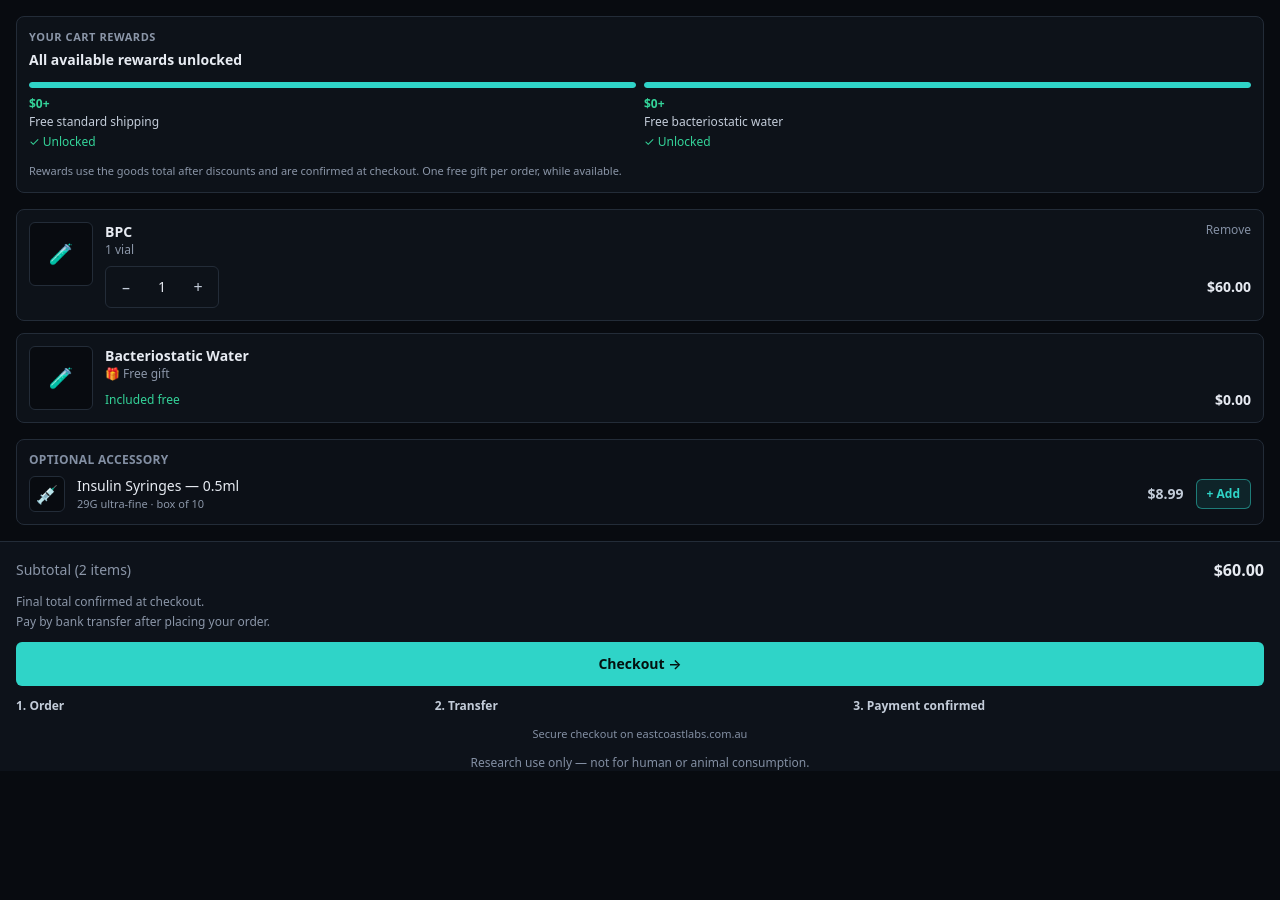
Test: removes the automatic gift when the last paid item is removed
The image size is (1280, 900).
Check: the text "Included free" is shown, box [105,392,180,408]
Click the button with aria-label "Remove BPC".
click(1228, 230)  # box [1198,214,1259,246]
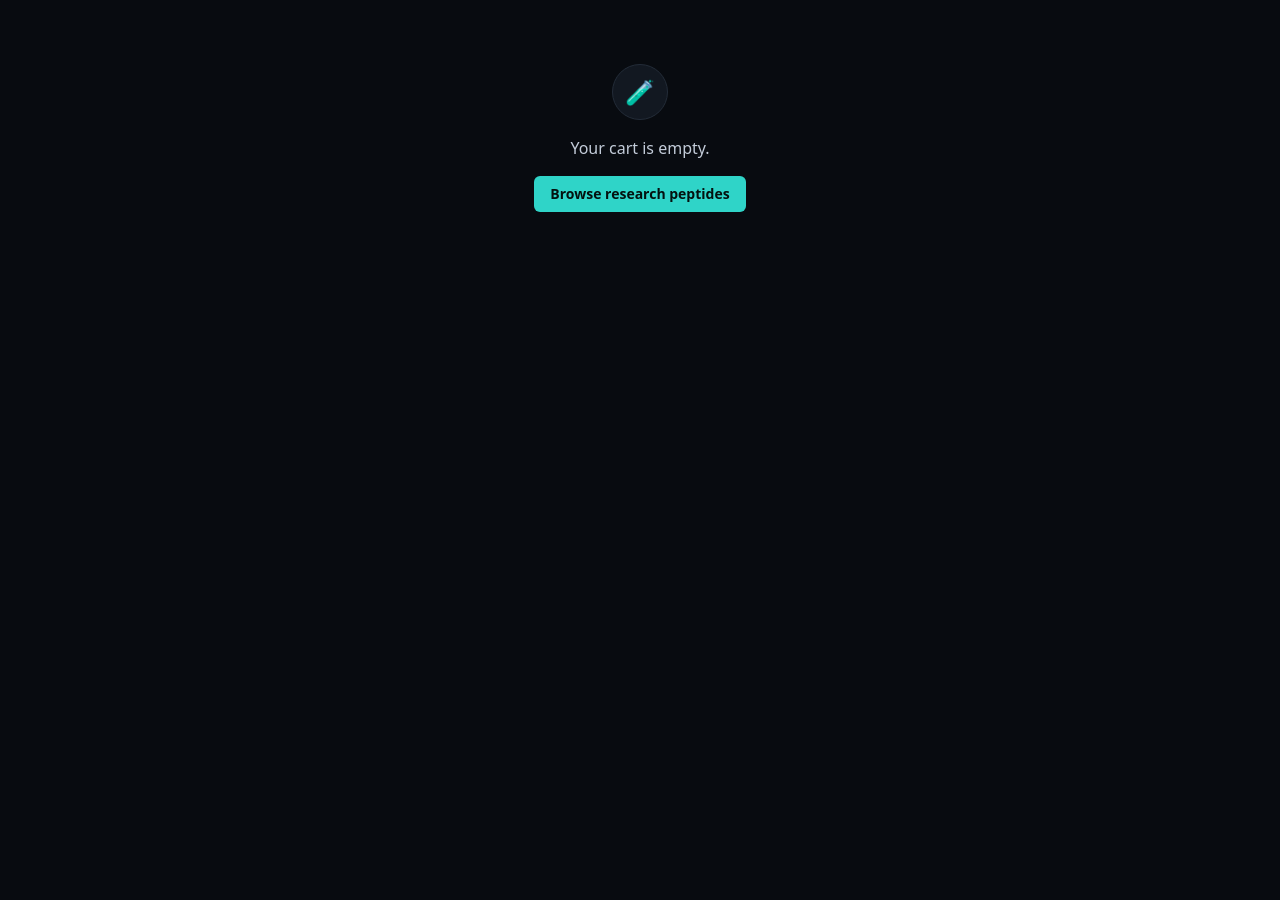
Check: the text "Your cart is empty." is shown, box [570,136,710,160]
